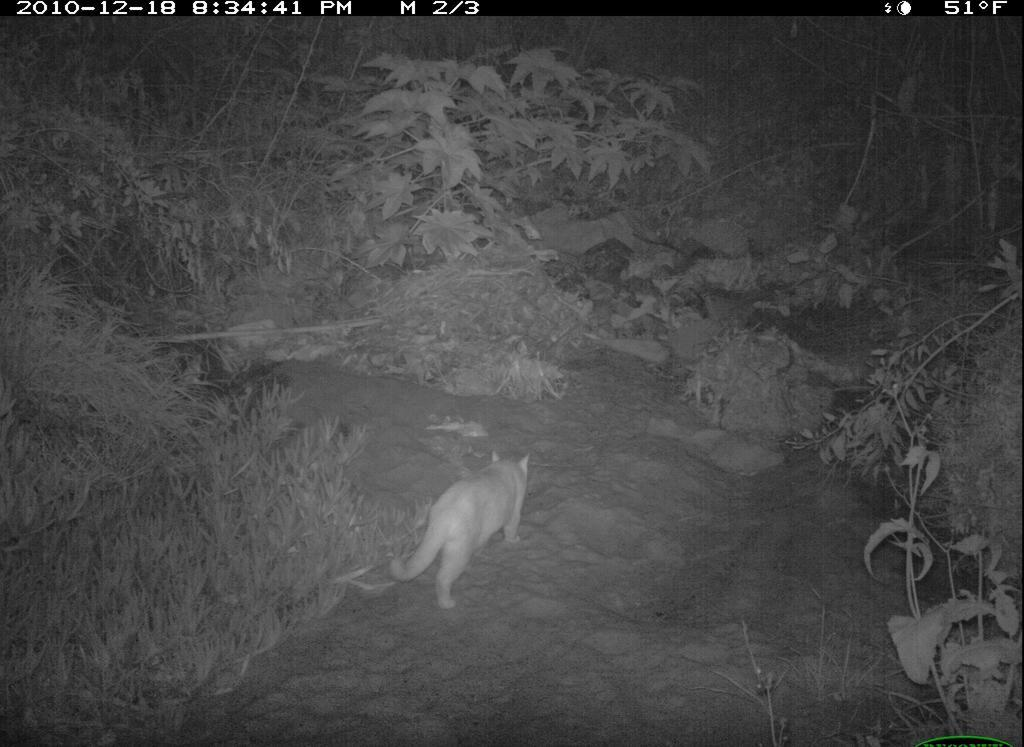cat: (383, 449, 537, 619)
